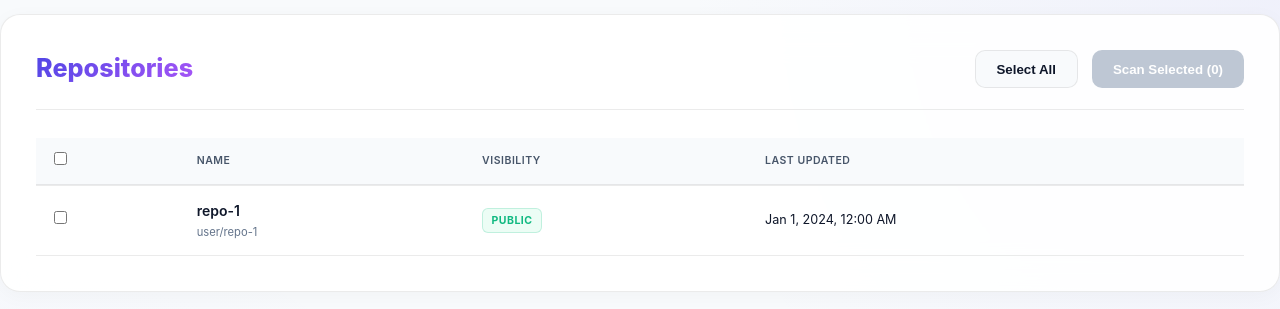
Test: RepositoryList Component › Unit Tests › should deselect all repositories when deselect all is clicked
Expected: the text "repo-1" is shown, left=197, top=202, right=240, bottom=219
Note: Select all first
Step 1. Click the button labelled "Select All" → click(1026, 69), box left=974, top=50, right=1078, bottom=88
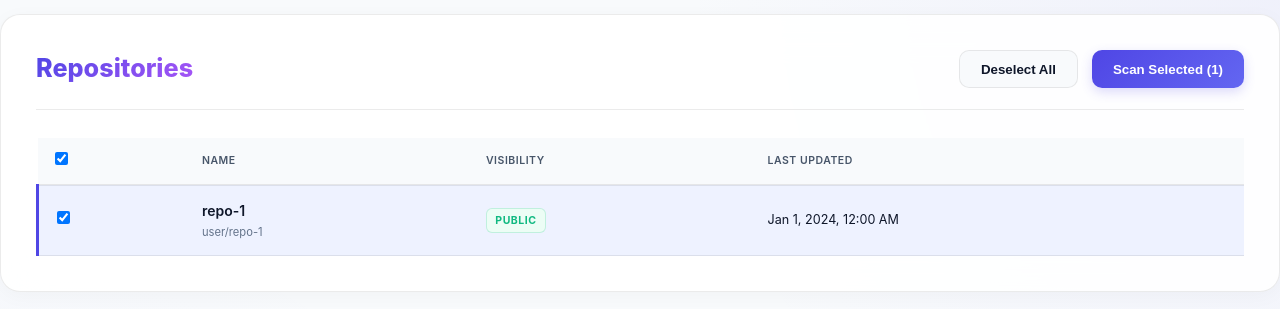
Expected: the checkbox named "Select repo-1" is checked, left=56, top=211, right=70, bottom=224
Note: Deselect all
Step 2. Click the button labelled "Deselect All" → click(1018, 69), box left=959, top=50, right=1078, bottom=88
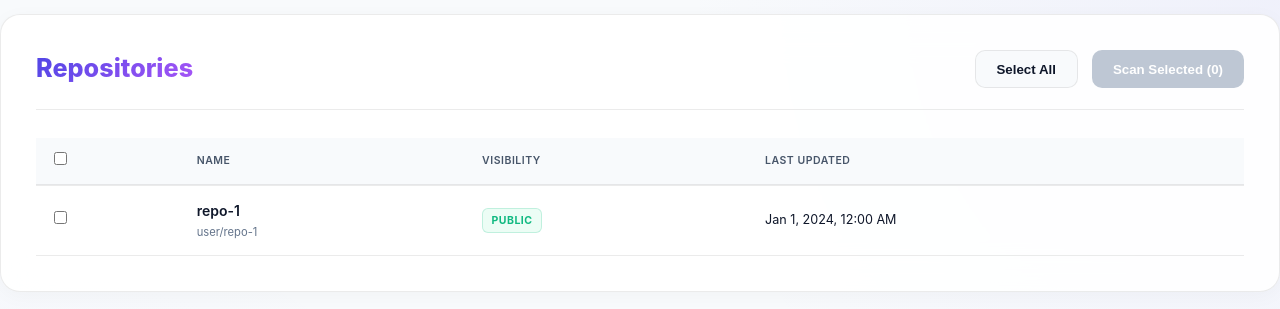
Expected: the checkbox named "Select repo-1" is not checked, left=54, top=211, right=66, bottom=224
Expected: the button "Scan Selected (0)" is shown, left=1092, top=50, right=1244, bottom=88
